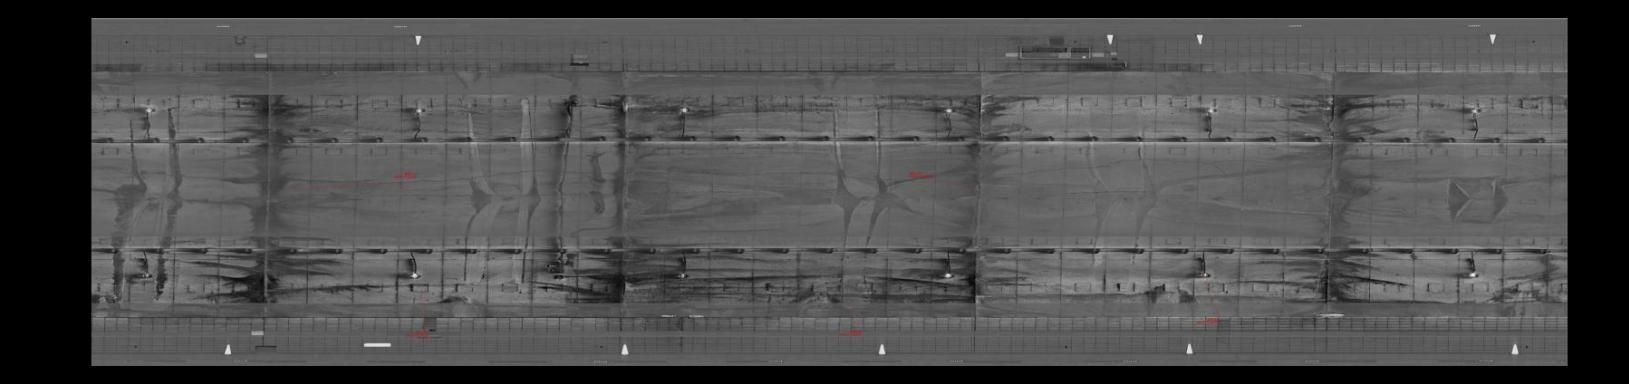light: (407, 105, 431, 117), (1464, 269, 1483, 283), (1194, 269, 1214, 281), (1465, 103, 1486, 114), (937, 105, 960, 114), (404, 269, 423, 280), (940, 269, 957, 281), (140, 104, 158, 115), (675, 105, 694, 115), (137, 269, 154, 280), (1198, 105, 1218, 114), (674, 271, 694, 279)
